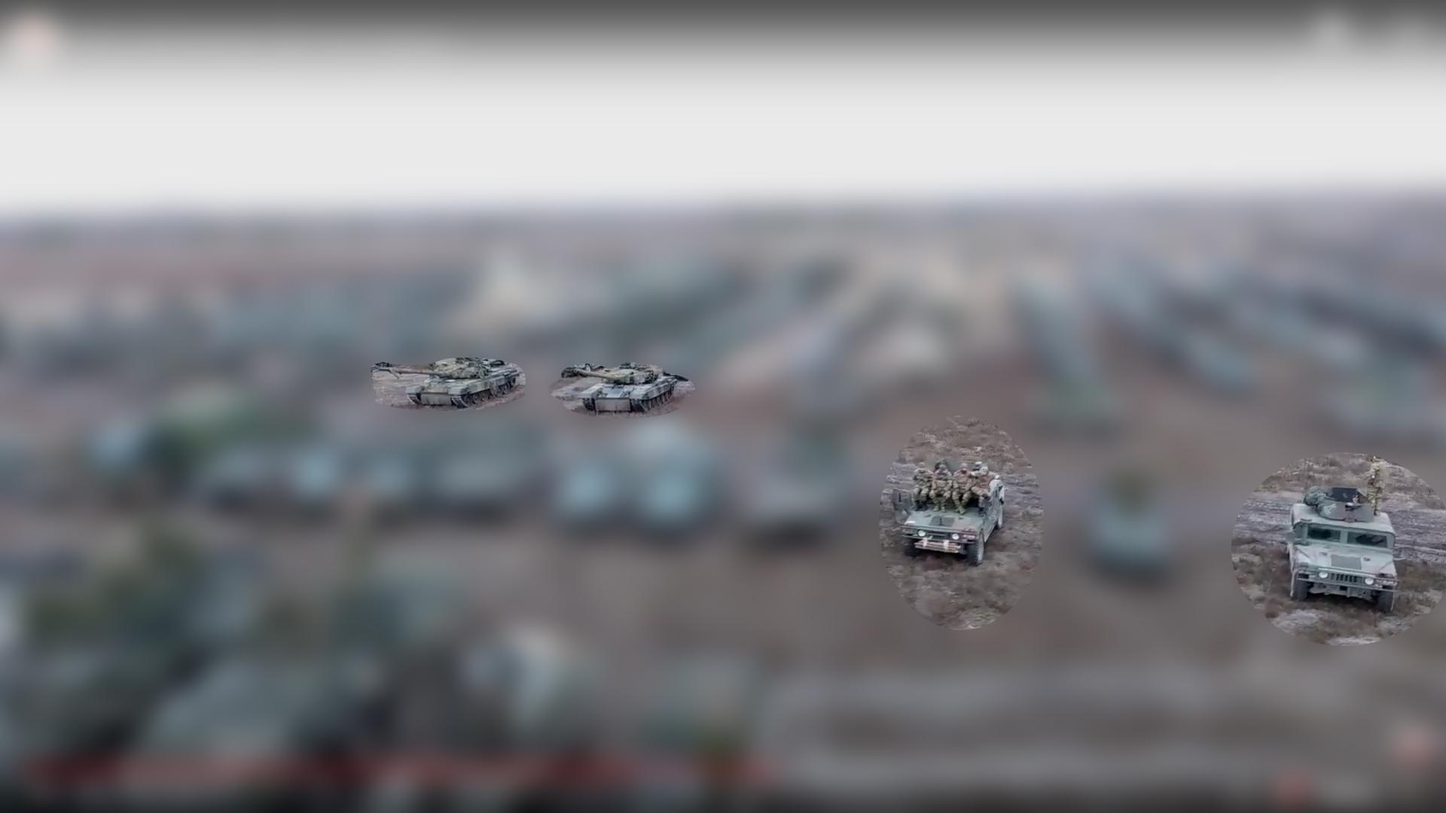armored_car: (1284, 484, 1402, 613), (901, 459, 1008, 569)
tank: (372, 358, 529, 411), (563, 363, 680, 417)
